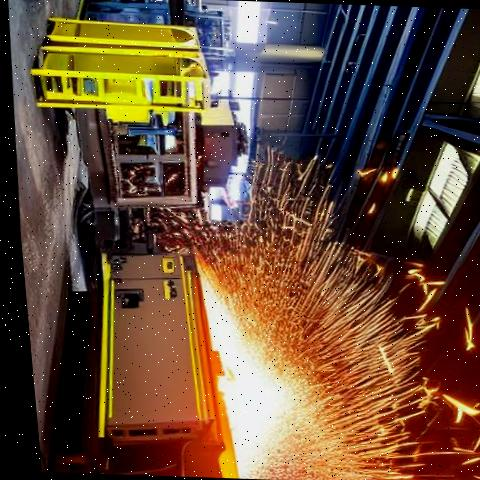fire: (96, 96, 480, 480)
